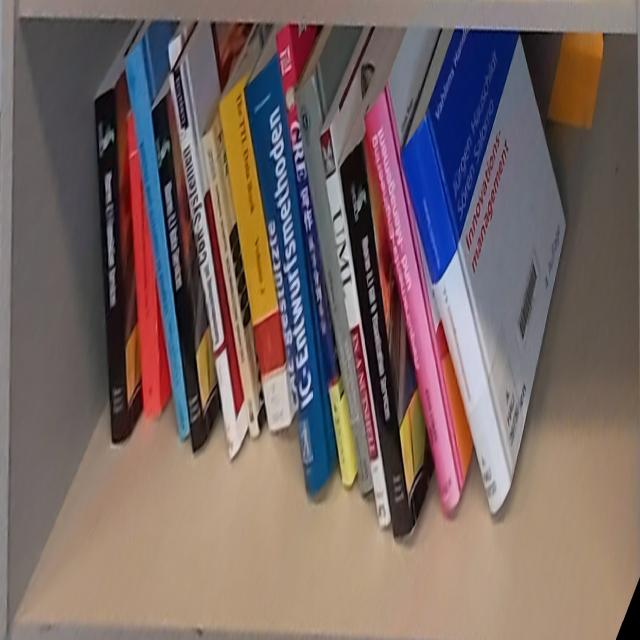Book Spine: (398, 114, 511, 516), (363, 81, 460, 519), (245, 53, 328, 497), (275, 31, 351, 489), (296, 69, 373, 496), (167, 53, 240, 463), (339, 141, 413, 545), (317, 126, 390, 528), (217, 67, 294, 434), (125, 34, 188, 442), (152, 96, 207, 462), (201, 127, 258, 441), (92, 86, 129, 443), (124, 104, 161, 420)
